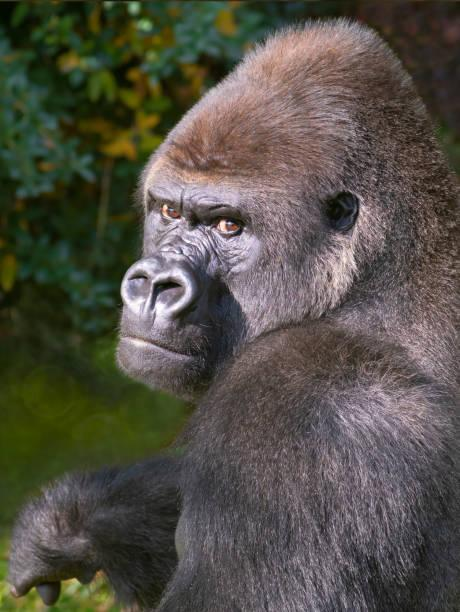gorille_Autres: (16, 27, 460, 612)
